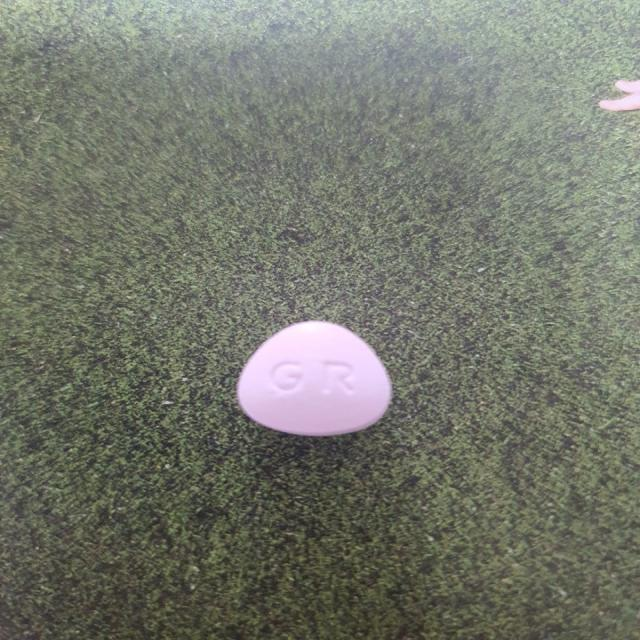pill: (220, 302, 403, 447)
